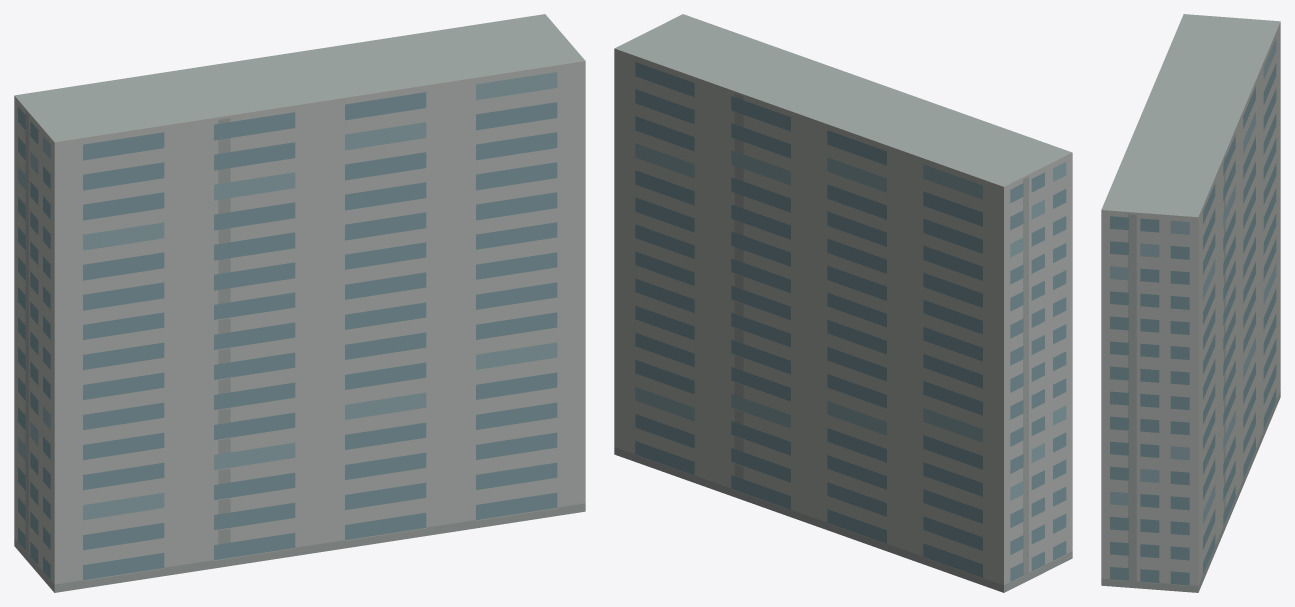
Rendered from residential-cbb579e2-b2be-40fa-a5aa-dc4b0325e83a.glb.
The picture shows the model from 3 angles, left to right: view 1: azimuth 30°, elevation 25°; view 2: azimuth 150°, elevation 25°; view 3: azimuth 270°, elevation 25°; orthographic projection. The views are drawn at different scales.
Visible parts, largest first — view 1: residential-cbb579e2-b2be-40fa-a5aa-dc4b0325e83a.tmp; view 2: residential-cbb579e2-b2be-40fa-a5aa-dc4b0325e83a.tmp; view 3: residential-cbb579e2-b2be-40fa-a5aa-dc4b0325e83a.tmp.
Boxes of the visible parts, x1,y1,x2,y2 form: residential-cbb579e2-b2be-40fa-a5aa-dc4b0325e83a.tmp: (14, 14, 585, 592); residential-cbb579e2-b2be-40fa-a5aa-dc4b0325e83a.tmp: (614, 14, 1072, 592); residential-cbb579e2-b2be-40fa-a5aa-dc4b0325e83a.tmp: (1101, 14, 1280, 592).
Size of the model in its own units: 53.09 by 45.75 by 19.82.
